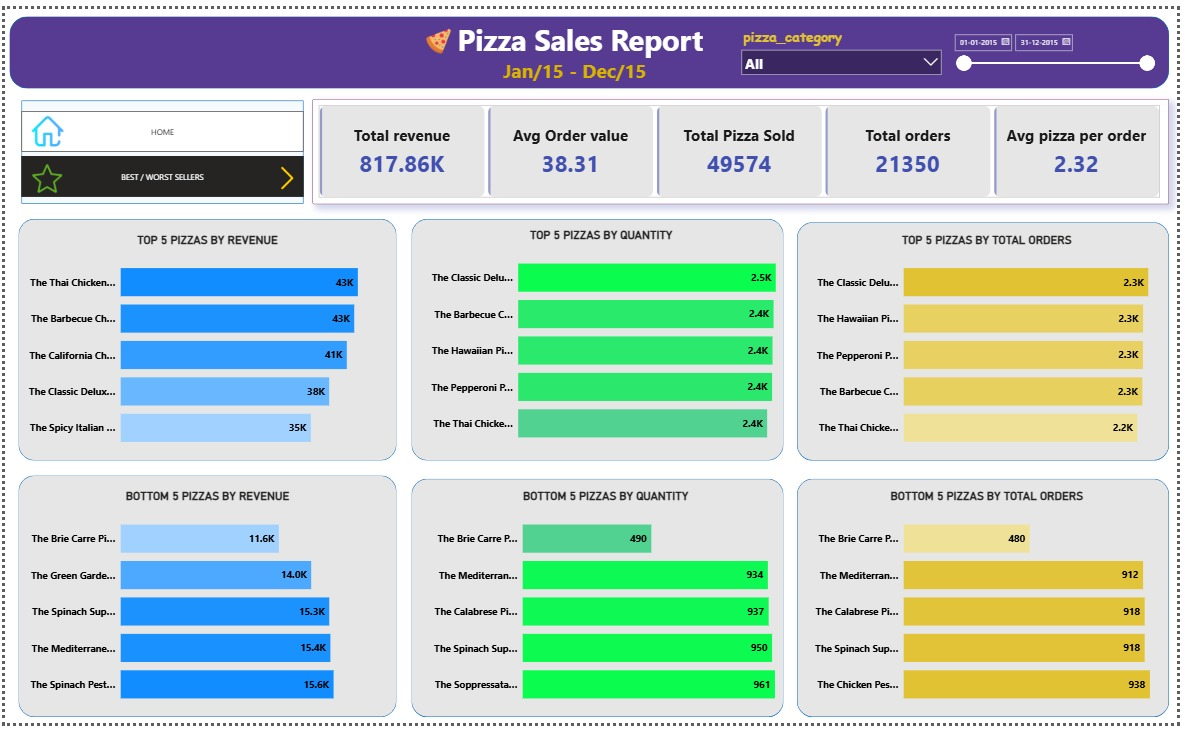

Layout of this report page (visuals, bound fields, positions):
{"tool":"powerbi","page":{"name":"BEST / WORST SELLERS","canvas":[1954,1190],"ordinal":1},"visuals":[{"type":"cardVisual","fields":{"Data":["pizza_sales.Total revenue","pizza_sales.Avg Order value","pizza_sales.Total Pizza Sold","pizza_sales.Total orders","pizza_sales.Avg pizza per order"]},"box":[512.5,150,1427.5,175],"z":0},{"type":"shape","box":[7.5,12.5,1932.5,120],"z":1000},{"type":"textbox","box":[697.5,12.5,497.5,110],"z":2000},{"type":"textbox","box":[825,75,263.3,58.3],"z":3000},{"type":"image","box":[652.5,32.5,140,42.5],"z":4000},{"type":"shape","box":[22.5,777.5,630,402.5],"z":5000},{"type":"shape","box":[677.5,777.5,620,402.5],"z":6000},{"type":"shape","box":[1320,777.5,620,402.5],"z":7000},{"type":"slicer","fields":{"Values":["pizza_sales.pizza_category"]},"box":[1218.3,25,353.3,98.3],"z":8000},{"type":"slicer","fields":{"Values":["pizza_sales.order_date"]},"box":[1570,32.5,355,100],"z":9000},{"type":"shape","box":[1320,350,620,402.5],"z":10000},{"type":"shape","box":[677.5,350,620,402.5],"z":11000},{"type":"shape","box":[22.5,350,630,402.5],"z":12000},{"type":"clusteredBarChart","title":"TOP 5 PIZZAS BY REVENUE","fields":{"Category":["pizza_sales.pizza_name"],"Y":["pizza_sales.Total revenue"]},"box":[22.5,367.5,630,385],"z":13000},{"type":"clusteredBarChart","title":"BOTTOM 5 PIZZAS BY REVENUE","fields":{"Category":["pizza_sales.pizza_name"],"Y":["pizza_sales.Total revenue"]},"box":[22.5,795,630,385],"z":14000},{"type":"clusteredBarChart","title":"TOP 5 PIZZAS BY QUANTITY","fields":{"Category":["pizza_sales.pizza_name"],"Y":["pizza_sales.Total Pizza Sold"]},"box":[690,360,607.5,385],"z":15000},{"type":"clusteredBarChart","title":"BOTTOM 5 PIZZAS BY QUANTITY","fields":{"Category":["pizza_sales.pizza_name"],"Y":["pizza_sales.Total Pizza Sold"]},"box":[697.5,795,607.5,385],"z":16000},{"type":"clusteredBarChart","title":"TOP 5 PIZZAS BY TOTAL ORDERS","fields":{"Category":["pizza_sales.pizza_name"],"Y":["pizza_sales.Total orders"]},"box":[1332.5,367.5,607.5,385],"z":17000},{"type":"clusteredBarChart","title":"BOTTOM 5 PIZZAS BY TOTAL ORDERS","fields":{"Category":["pizza_sales.pizza_name"],"Y":["pizza_sales.Total orders"]},"box":[1332.5,795,607.5,385],"z":18000},{"type":"shape","box":[28,153,470,172],"z":19000},{"type":"pageNavigator","box":[28,245,470,68],"z":20000},{"type":"pageNavigator","box":[28,170,470,68],"z":21000},{"type":"image","box":[27.5,177.5,87.5,52.5],"z":22000},{"type":"image","box":[441.2,261.2,56.2,38.8],"z":23000},{"type":"image","box":[40,256.2,61.2,50],"z":24000}]}

Visuals, with their boxes in screenshot pixels (x1, y1, x2, y2), scaled from the page's 1954x1190 canvas onto the 1186x730 screenshot:
cardVisual - pizza_sales.Total revenue x pizza_sales.Avg Order value: 311,92,1178,199
shape: 5,8,1178,81
textbox: 423,8,725,75
textbox: 501,46,661,82
image: 396,20,481,46
shape: 14,477,396,724
shape: 411,477,788,724
shape: 801,477,1178,724
slicer - pizza_sales.pizza_category: 739,15,954,76
slicer - pizza_sales.order_date: 953,20,1168,81
shape: 801,215,1178,462
shape: 411,215,788,462
shape: 14,215,396,462
"TOP 5 PIZZAS BY REVENUE" clusteredBarChart: 14,225,396,462
"BOTTOM 5 PIZZAS BY REVENUE" clusteredBarChart: 14,488,396,724
"TOP 5 PIZZAS BY QUANTITY" clusteredBarChart: 419,221,788,457
"BOTTOM 5 PIZZAS BY QUANTITY" clusteredBarChart: 423,488,792,724
"TOP 5 PIZZAS BY TOTAL ORDERS" clusteredBarChart: 809,225,1178,462
"BOTTOM 5 PIZZAS BY TOTAL ORDERS" clusteredBarChart: 809,488,1178,724
shape: 17,94,302,199
pageNavigator: 17,150,302,192
pageNavigator: 17,104,302,146
image: 17,109,70,141
image: 268,160,302,184
image: 24,157,61,188
